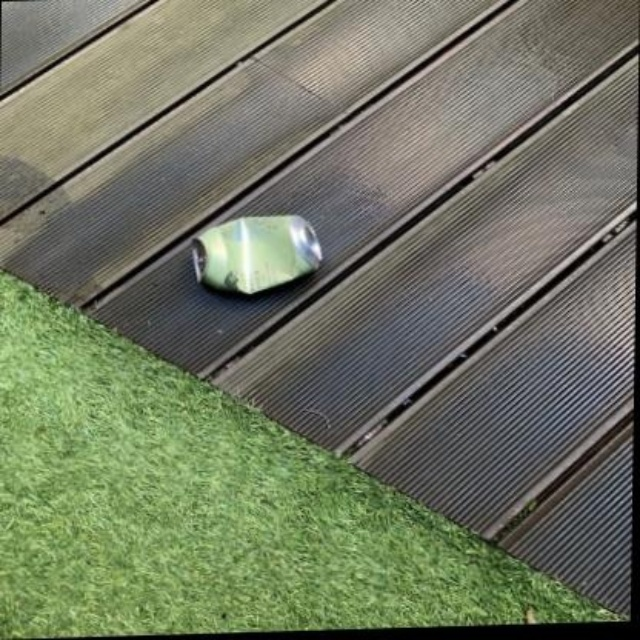trash: (192, 215, 320, 292)
